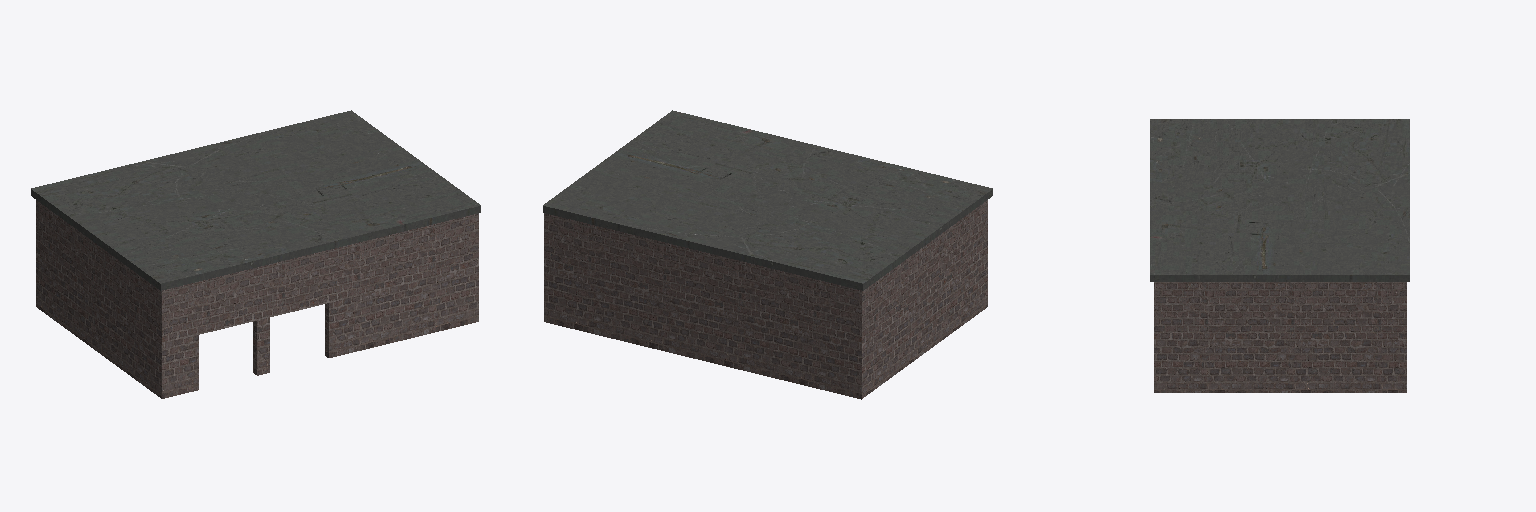
3 views of the same model, side by side, from view 1: azimuth 30°, elevation 25°; view 2: azimuth 150°, elevation 25°; view 3: azimuth 270°, elevation 25° (orthographic).
Parts seen in each view (by area): view 1: Cube.002, Cube; view 2: Cube, Cube.002; view 3: Cube.002, Cube.
Part boxes in pixels (bbox=[...]): Cube.002: bbox=[31, 110, 480, 290]; Cube: bbox=[36, 200, 478, 398]; Cube: bbox=[544, 200, 987, 399]; Cube.002: bbox=[543, 110, 992, 290]; Cube.002: bbox=[1150, 119, 1409, 281]; Cube: bbox=[1154, 282, 1406, 392].
Size of the model in its own units: 30.34 by 10.64 by 21.3.
1 materials, 1 textured.